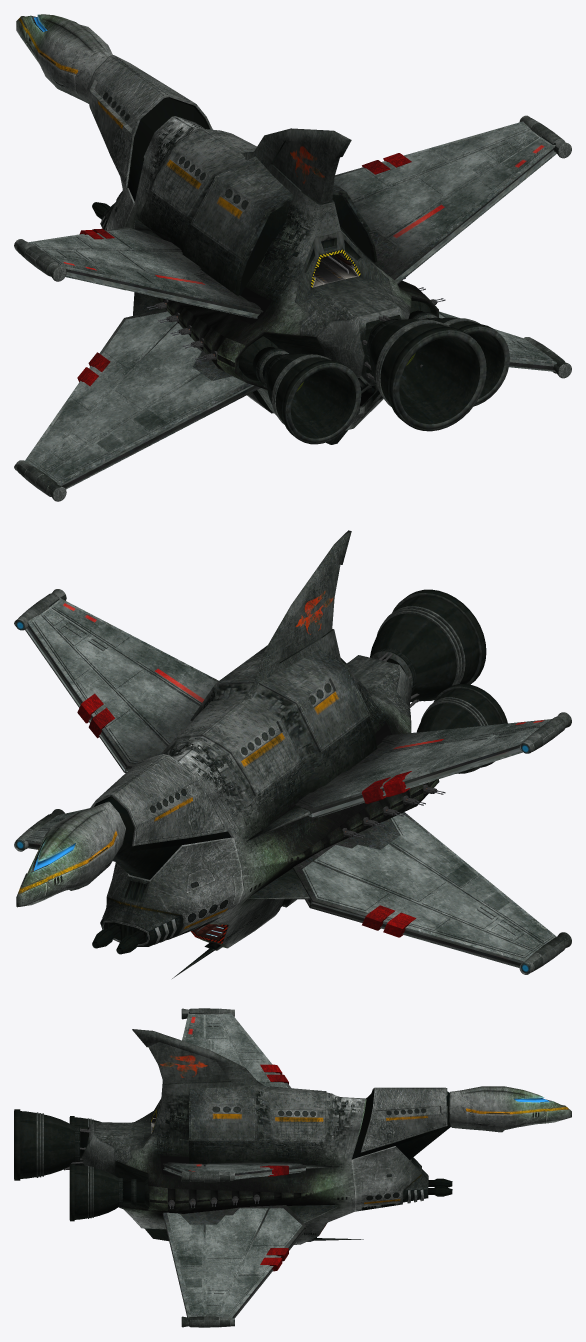
The model's file is gf_adv.glb.
3 renders of one model, top to bottom at view 1: azimuth 30°, elevation 25°; view 2: azimuth 150°, elevation 25°; view 3: azimuth 270°, elevation 25°, orthographic. The views are drawn at different scales.
Parts seen in each view (by area): view 1: detail0, extra; view 2: detail0, turret01, extra; view 3: detail0.
Boxes of the visible parts, x1=… form: detail0: x1=14, y1=14, x2=571, y2=501; extra: x1=311, y1=249, x2=422, y2=380; detail0: x1=14, y1=530, x2=571, y2=978; turret01: x1=92, y1=924, x2=144, y2=954; extra: x1=191, y1=649, x2=419, y2=943; detail0: x1=14, y1=1008, x2=571, y2=1327.
Bounding box in the file's own units: 15.36 × 9.27 × 21.62.
12 materials, 11 textured.
